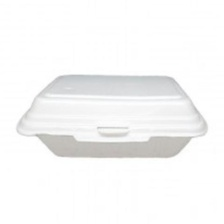foam_box: (8, 67, 216, 164)
